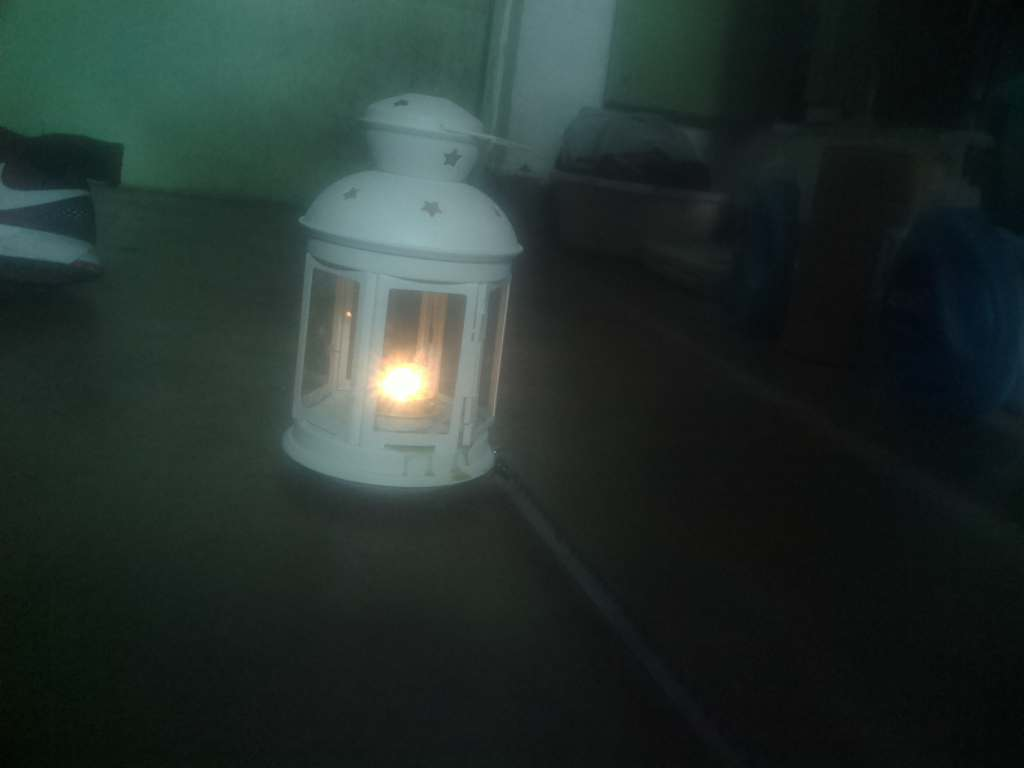fire: (358, 344, 473, 425)
